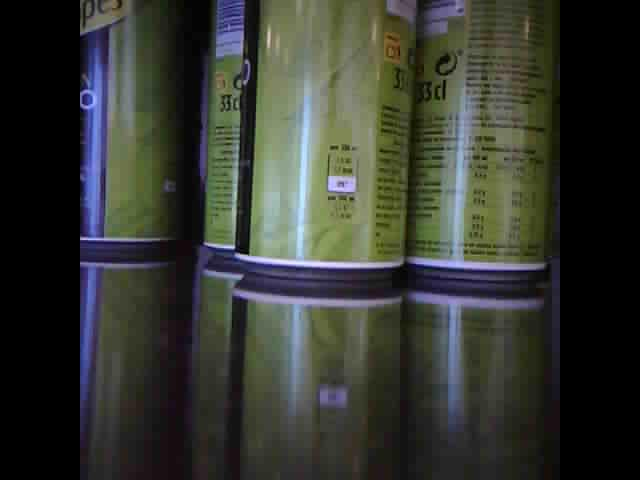schweppes: (238, 6, 416, 277), (404, 1, 550, 284), (79, 6, 182, 249), (196, 2, 245, 260)
